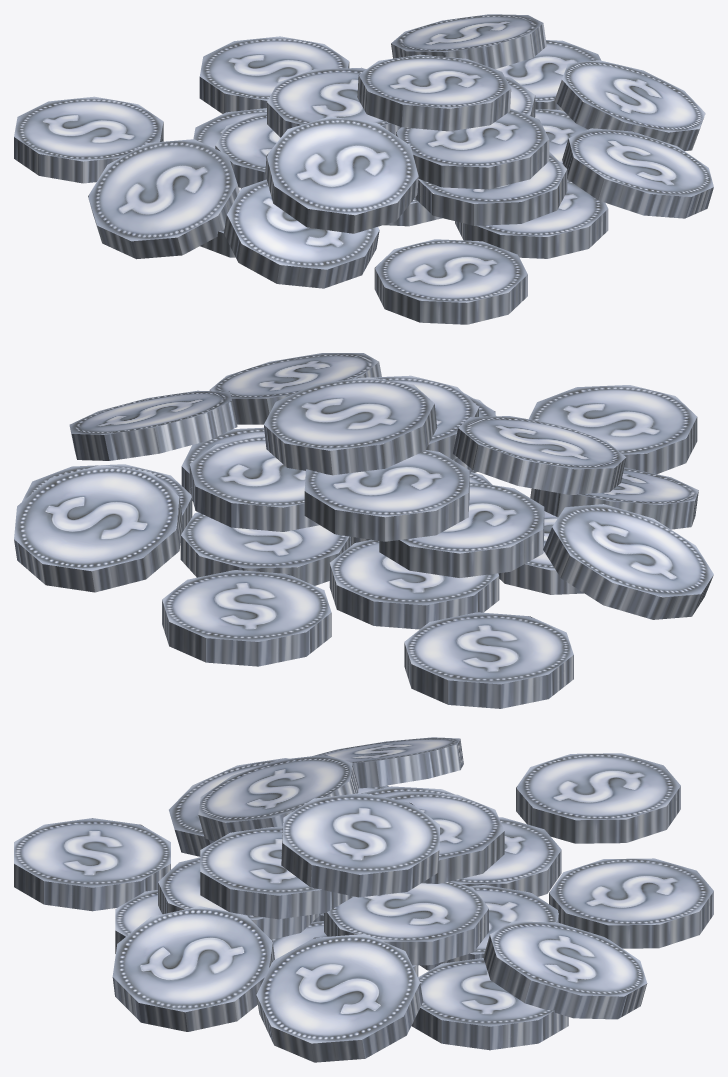
The model's file is coin_013.fbx.
3 views of the same model, one above another, from view 1: azimuth 30°, elevation 25°; view 2: azimuth 150°, elevation 25°; view 3: azimuth 270°, elevation 25° (orthographic). The views are drawn at different scales.
Parts seen in each view (by area): view 1: coin_013; view 2: coin_013; view 3: coin_013.
Part boxes in pixels (left/top/right/bottom): coin_013: left=14, top=14, right=713, bottom=324; coin_013: left=14, top=353, right=713, bottom=708; coin_013: left=14, top=737, right=713, bottom=1062.
Size of the model in its own units: 18.37 by 3.11 by 18.04.
